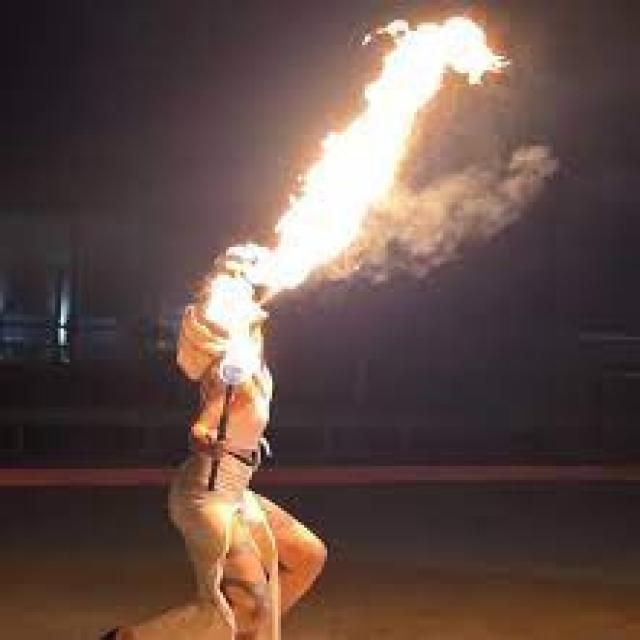fire: (226, 18, 509, 304)
